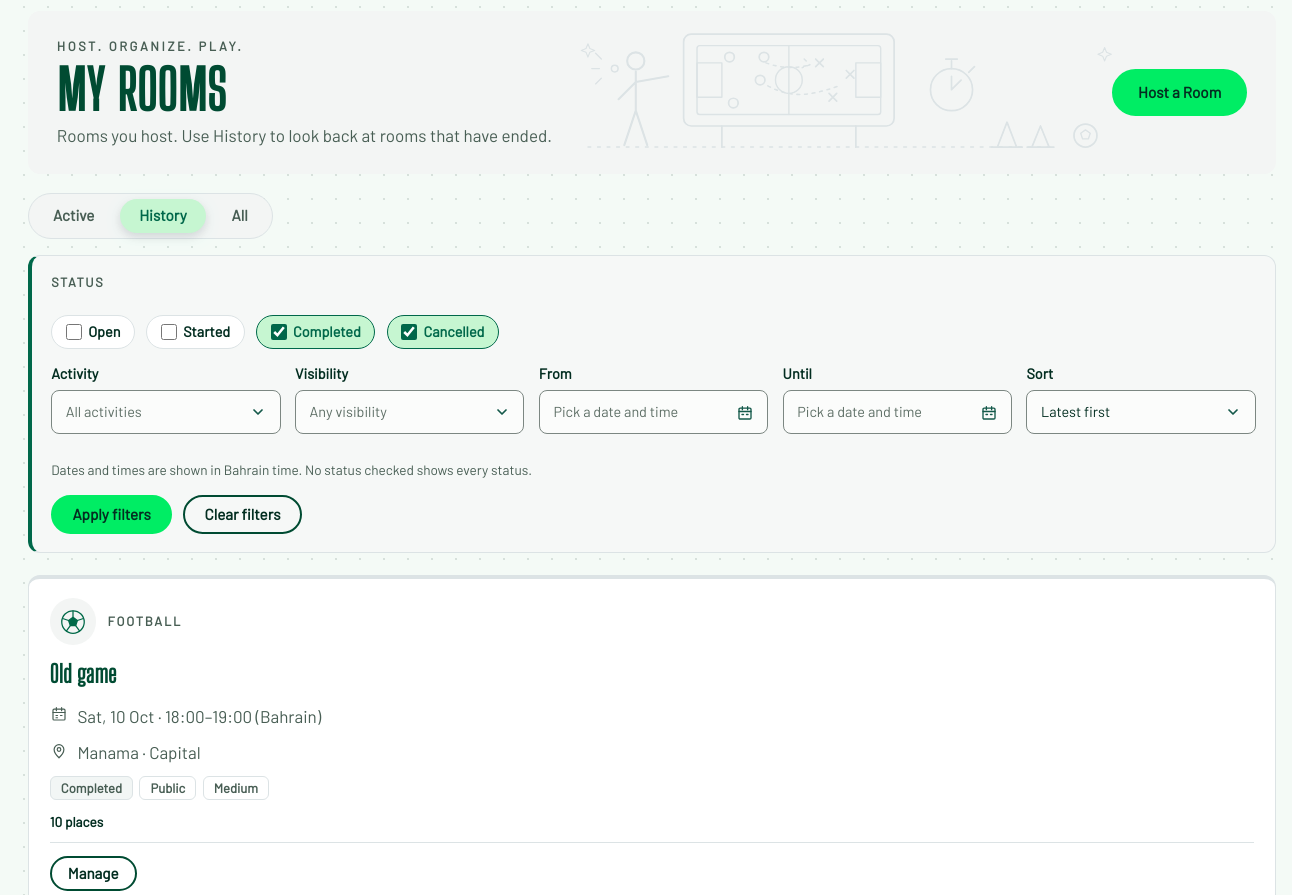
Scenario: My rooms page › applies filters to the URL and rejects an invalid date range
Check: the heading "Old game" is shown, box 50,659 -> 117,688
Select "Swimming" in the dropdown labelled "Activity" at [166, 399], box 51,363 -> 281,434
Click the checkbox labelled "Cancelled" at [409, 332], box 401,324 -> 417,340
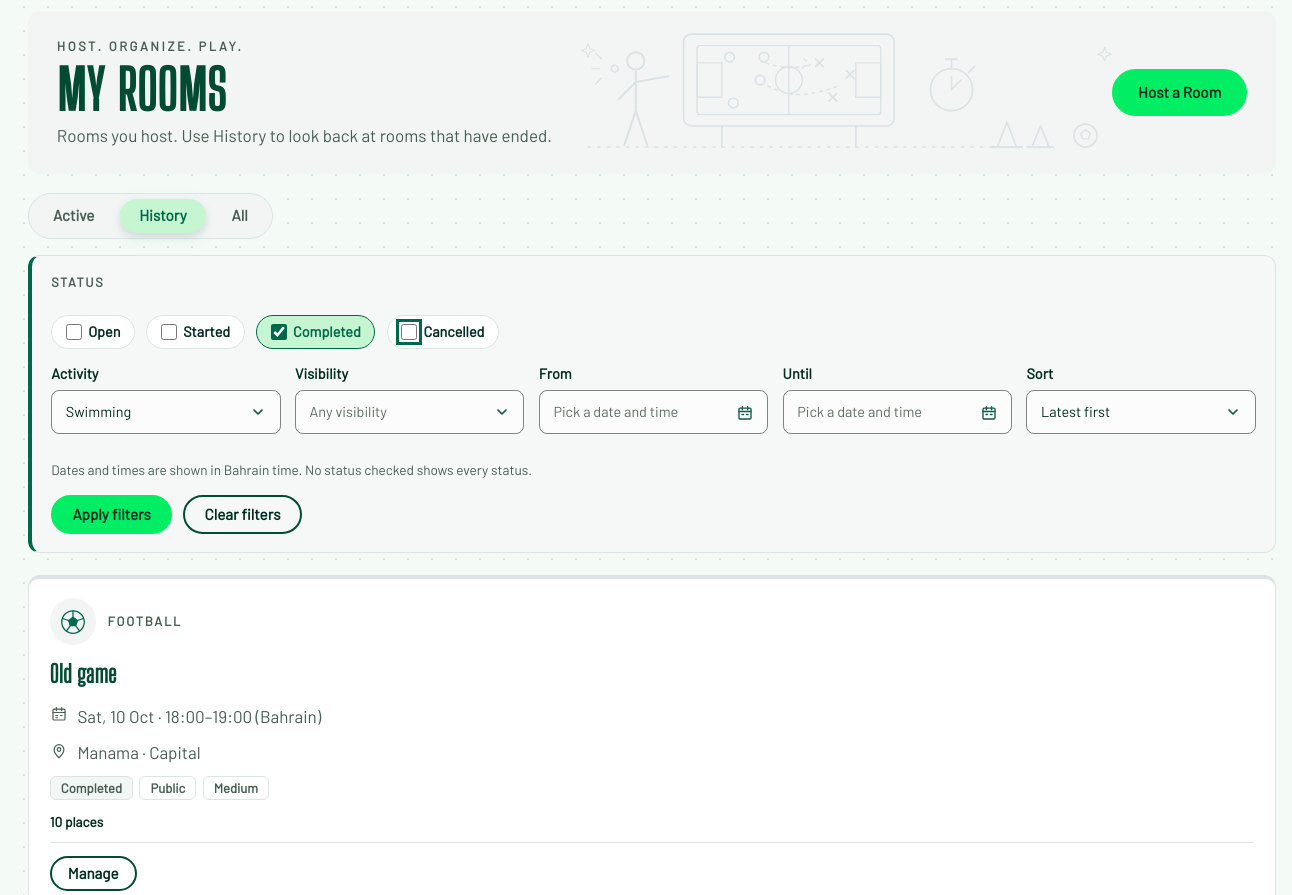
Click the button "Apply filters" at [112, 514], box 51,494 -> 172,534
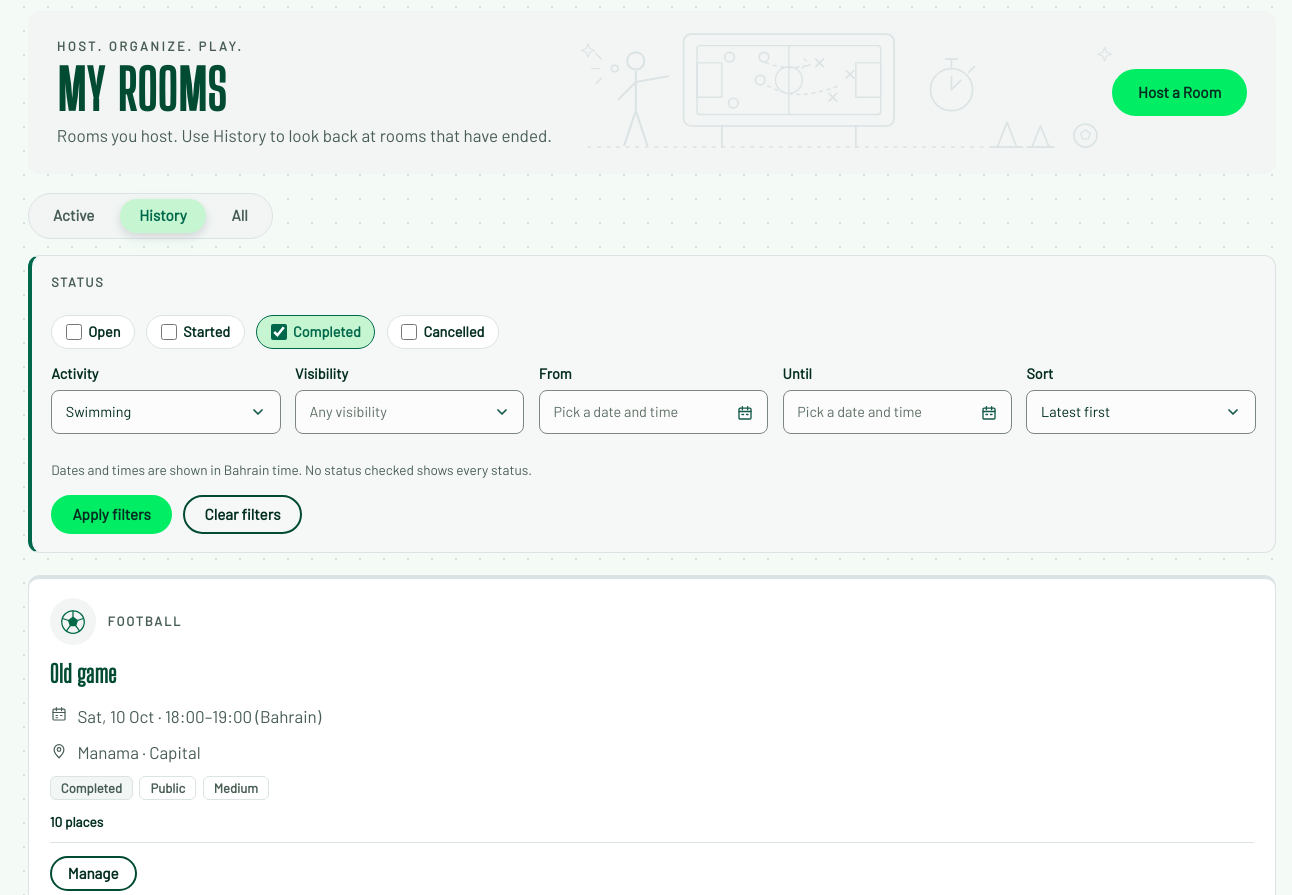
Type "2026-10-20T10:00" into the field labelled "From" at [654, 399], box 539,363 -> 768,434
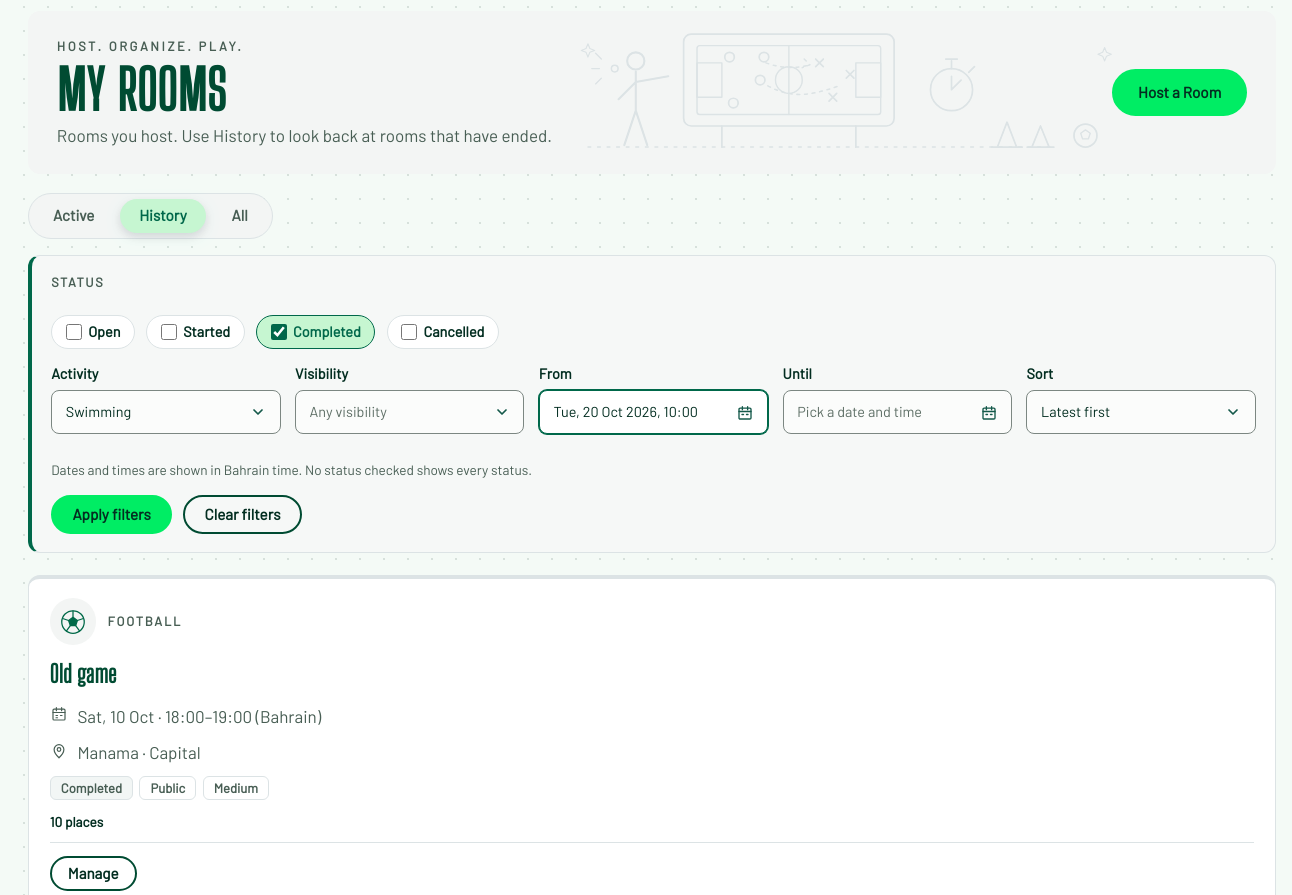
Type "2026-10-10T10:00" into the field labelled "Until" at [897, 399], box 783,363 -> 1012,434
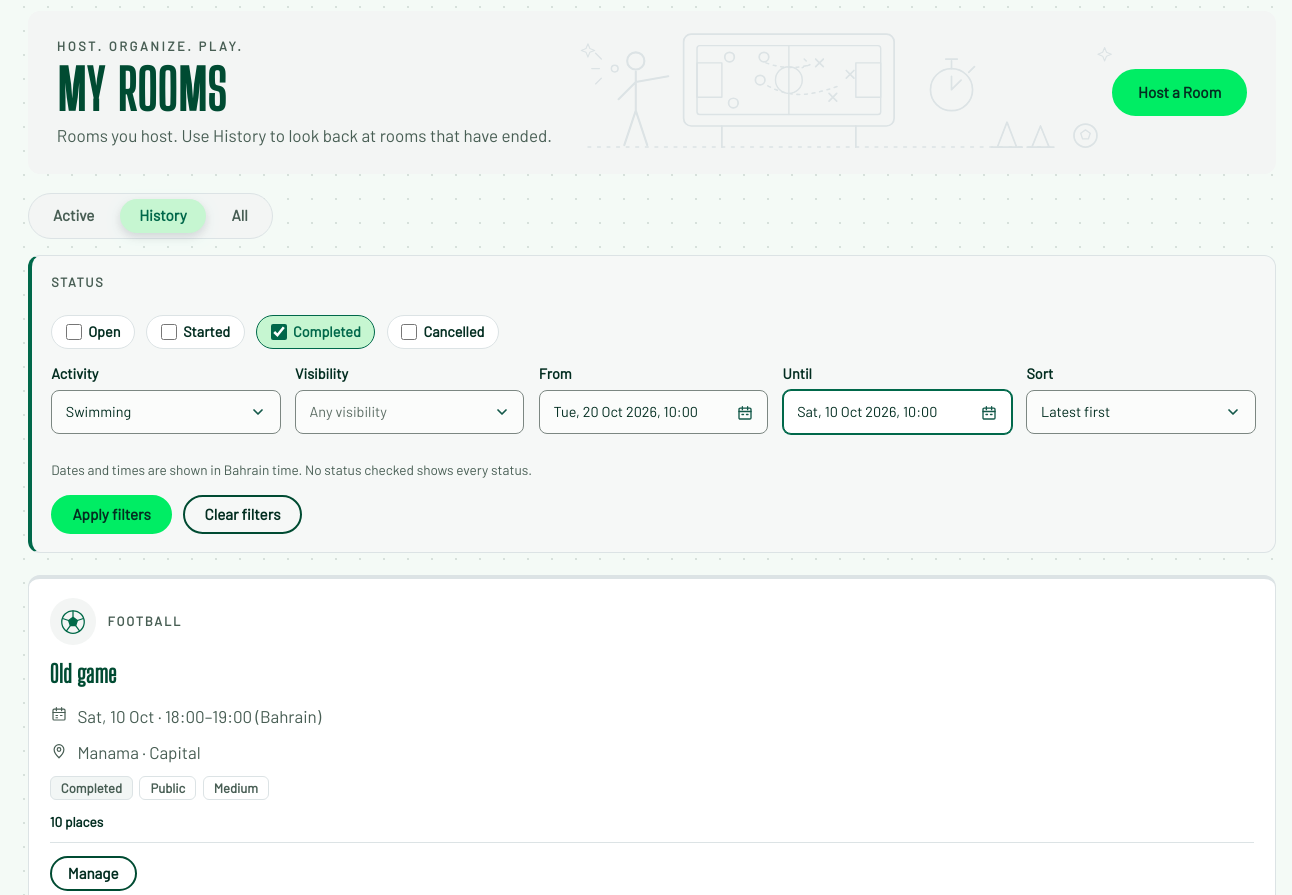
Click the button "Apply filters" at [112, 514], box 51,494 -> 172,534
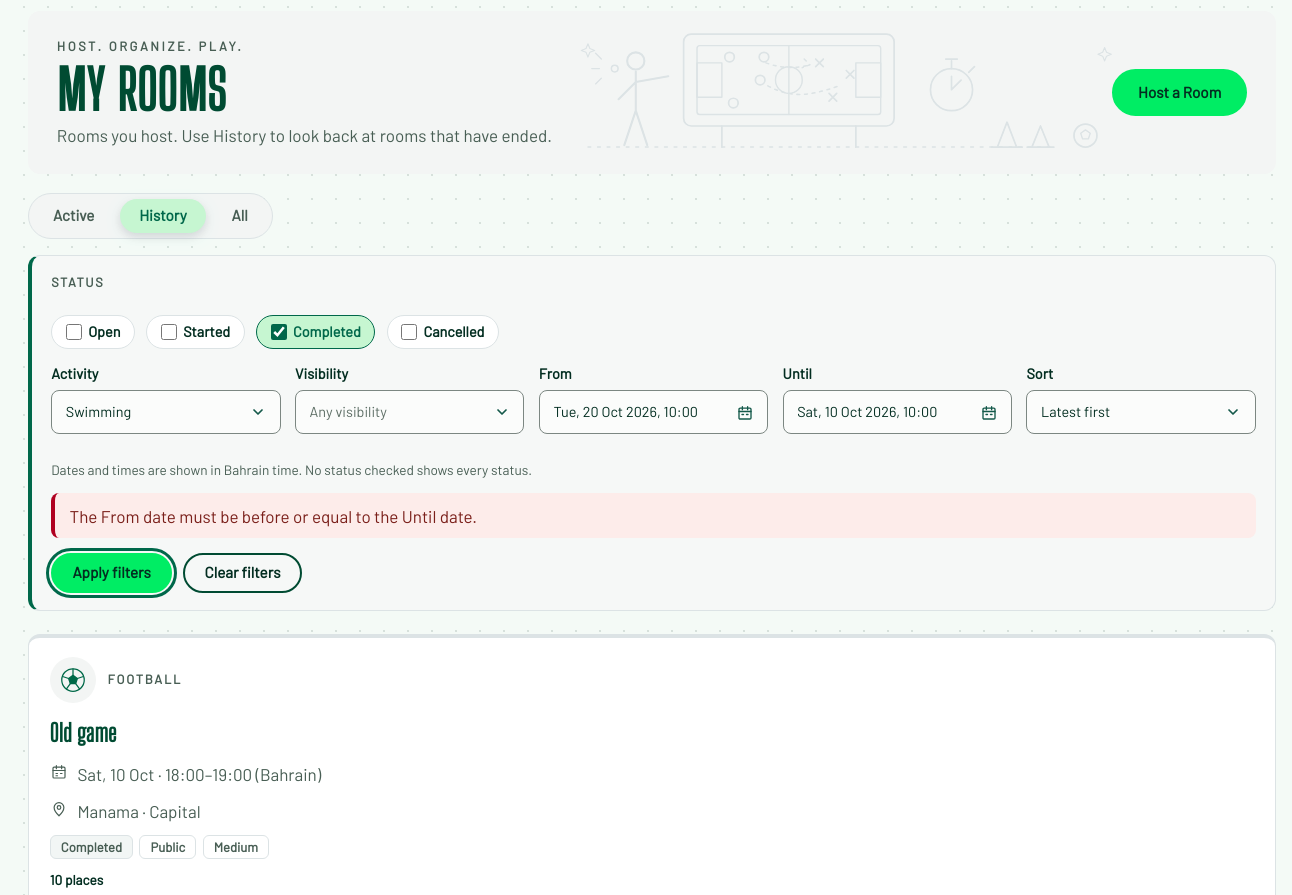
Check: the message shows "From date must be before", box 70,506 -> 477,526
Click the button "Clear filters" at [242, 573], box 183,553 -> 302,593
(page scrolled)
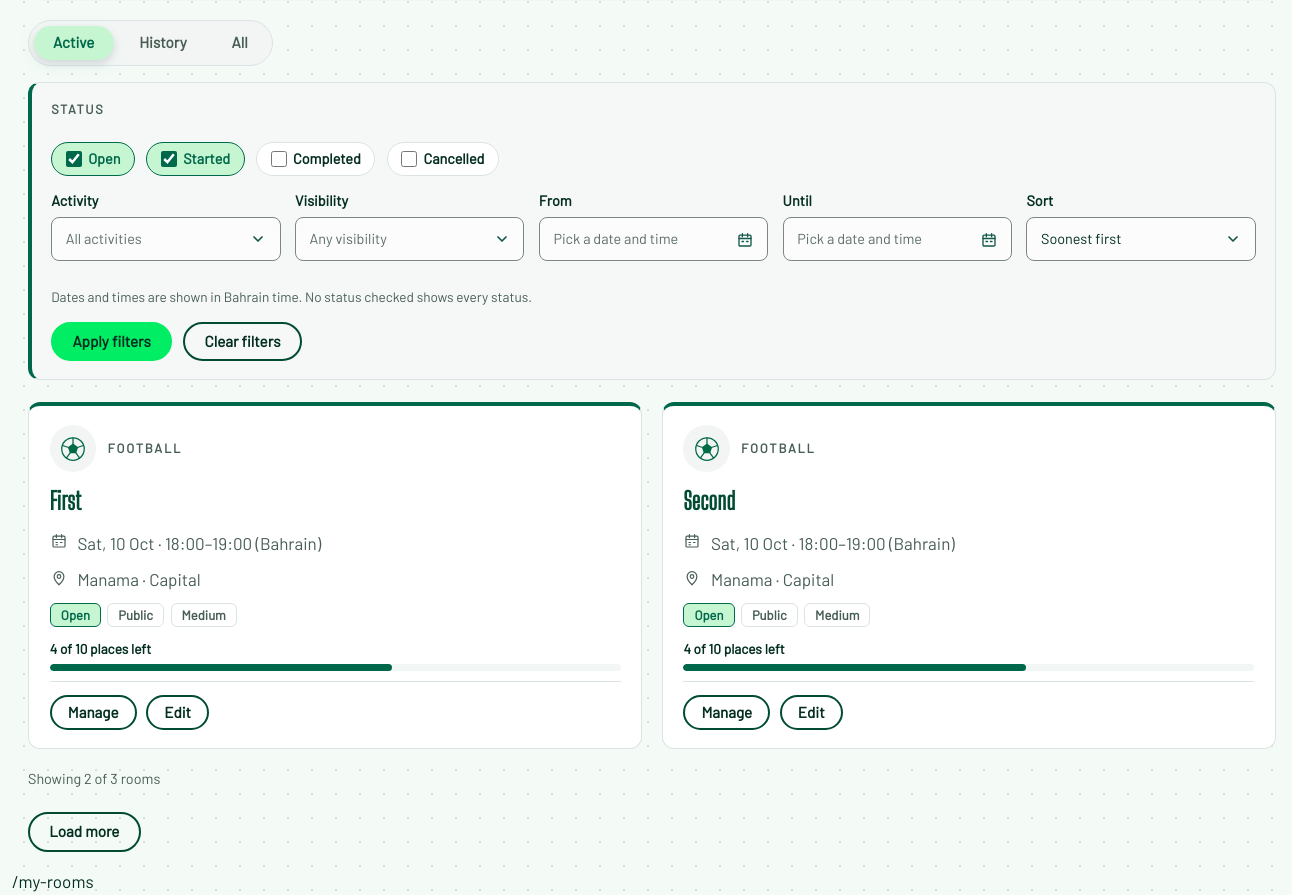
Check: the text with test id "where" reads "/my-rooms", box 12,871 -> 94,891
